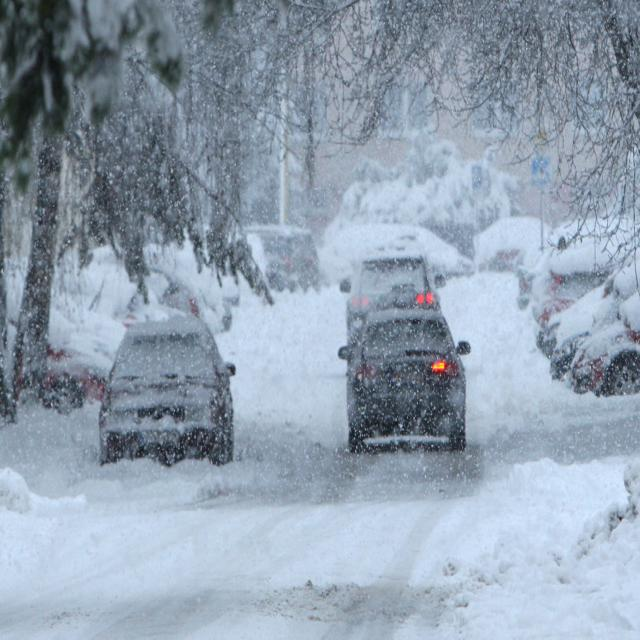car: (94, 308, 238, 474), (344, 298, 466, 452), (341, 253, 445, 333), (336, 227, 470, 286), (252, 220, 322, 294), (535, 255, 625, 310), (579, 320, 638, 399), (476, 216, 552, 269), (552, 322, 592, 378), (514, 254, 544, 314)
